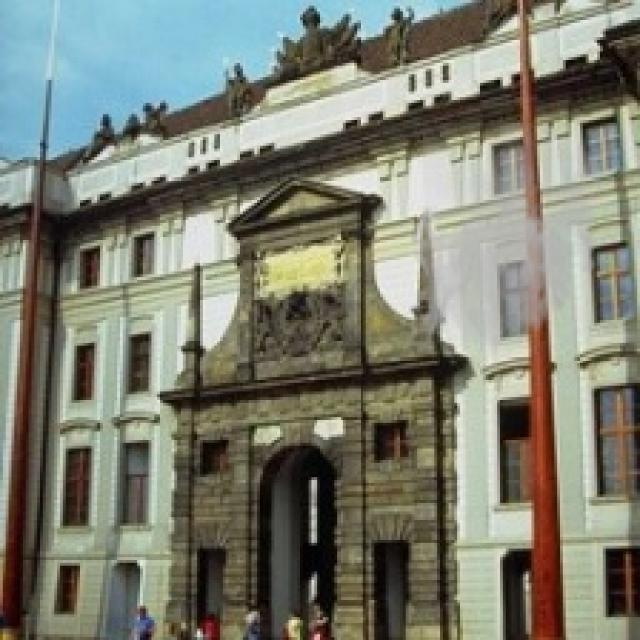smoke: (408, 123, 608, 360)
